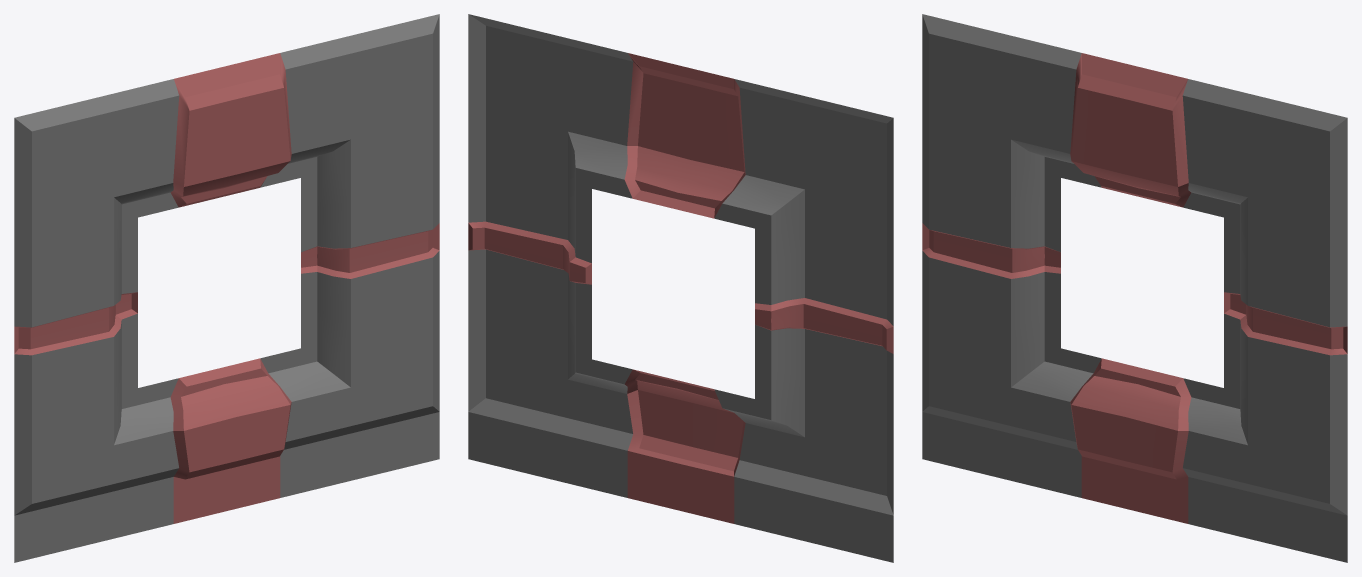
File: SM_Module_2.fbx
3 renders of one model, left to right at view 1: azimuth 30°, elevation 25°; view 2: azimuth 150°, elevation 25°; view 3: azimuth 330°, elevation 25°, orthographic.
Parts seen in each view (by area): view 1: SM_Module_2; view 2: SM_Module_2; view 3: SM_Module_2.
Part boxes in pixels (x1,y1,x2,y2): SM_Module_2: (14, 14, 439, 562); SM_Module_2: (468, 14, 893, 562); SM_Module_2: (922, 14, 1347, 562).
Size of the model in its own units: 300 by 300 by 25.41.
